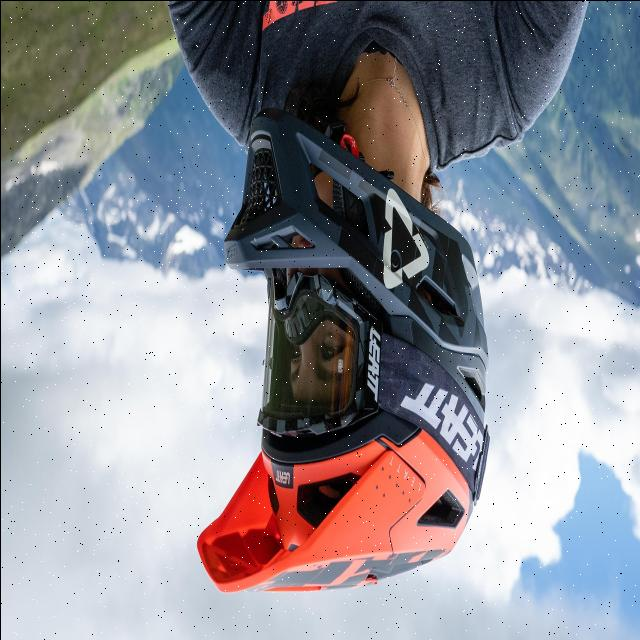Helmet: (196, 109, 489, 591)
